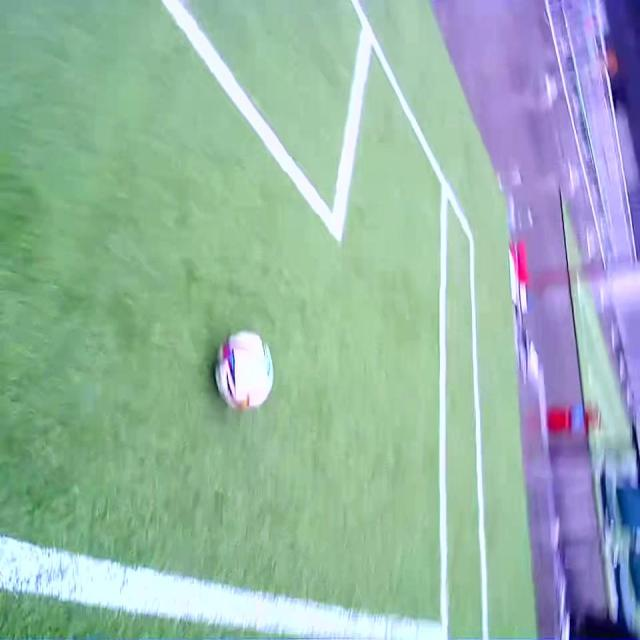ball: (213, 329, 274, 410)
